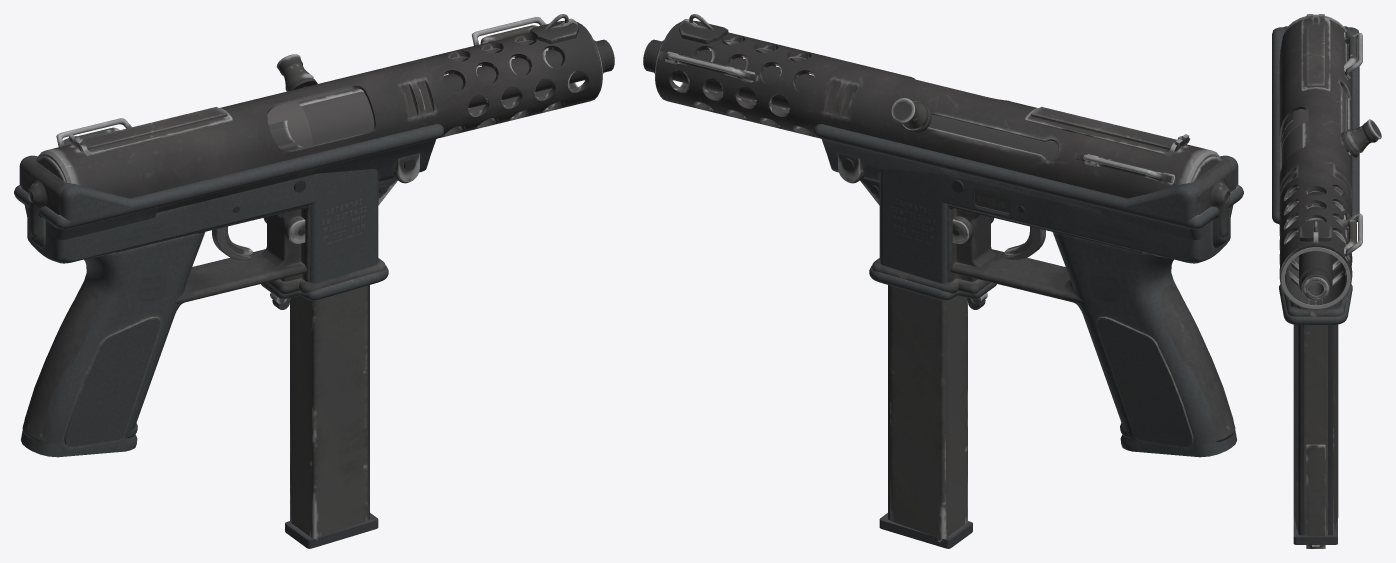
Rendered from weapon_tec9.glb.
3 views of the same model, side by side, from view 1: azimuth 30°, elevation 25°; view 2: azimuth 150°, elevation 25°; view 3: azimuth 270°, elevation 25° (orthographic). The views are drawn at different scales.
Parts seen in each view (by area): view 1: weapons/models/tec9/weapon_pist_tec9.vmdl_c.body_legacy, weapons/models/tec9/weapon_pist_tec9.vmdl_c.body_hd; view 2: weapons/models/tec9/weapon_pist_tec9.vmdl_c.body_legacy, weapons/models/tec9/weapon_pist_tec9.vmdl_c.body_hd; view 3: weapons/models/tec9/weapon_pist_tec9.vmdl_c.body_legacy, weapons/models/tec9/weapon_pist_tec9.vmdl_c.body_hd.
Boxes of the visible parts, box(x1,y1,x2,y2) form: weapons/models/tec9/weapon_pist_tec9.vmdl_c.body_legacy: box(14, 14, 614, 548); weapons/models/tec9/weapon_pist_tec9.vmdl_c.body_hd: box(17, 18, 602, 540); weapons/models/tec9/weapon_pist_tec9.vmdl_c.body_legacy: box(643, 14, 1243, 548); weapons/models/tec9/weapon_pist_tec9.vmdl_c.body_hd: box(655, 19, 1240, 542); weapons/models/tec9/weapon_pist_tec9.vmdl_c.body_legacy: box(1272, 14, 1377, 544); weapons/models/tec9/weapon_pist_tec9.vmdl_c.body_hd: box(1281, 17, 1381, 548).
Size of the model in its own units: 13.37 by 10.18 by 2.45.
2 materials, 2 textured.
